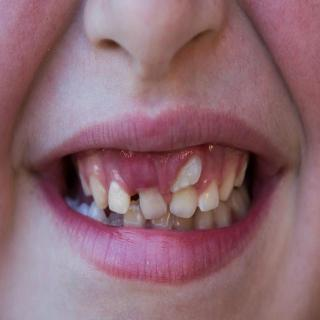Gum Swelling: (119, 153, 187, 193)
maligned: (164, 154, 202, 194), (102, 208, 122, 236)
